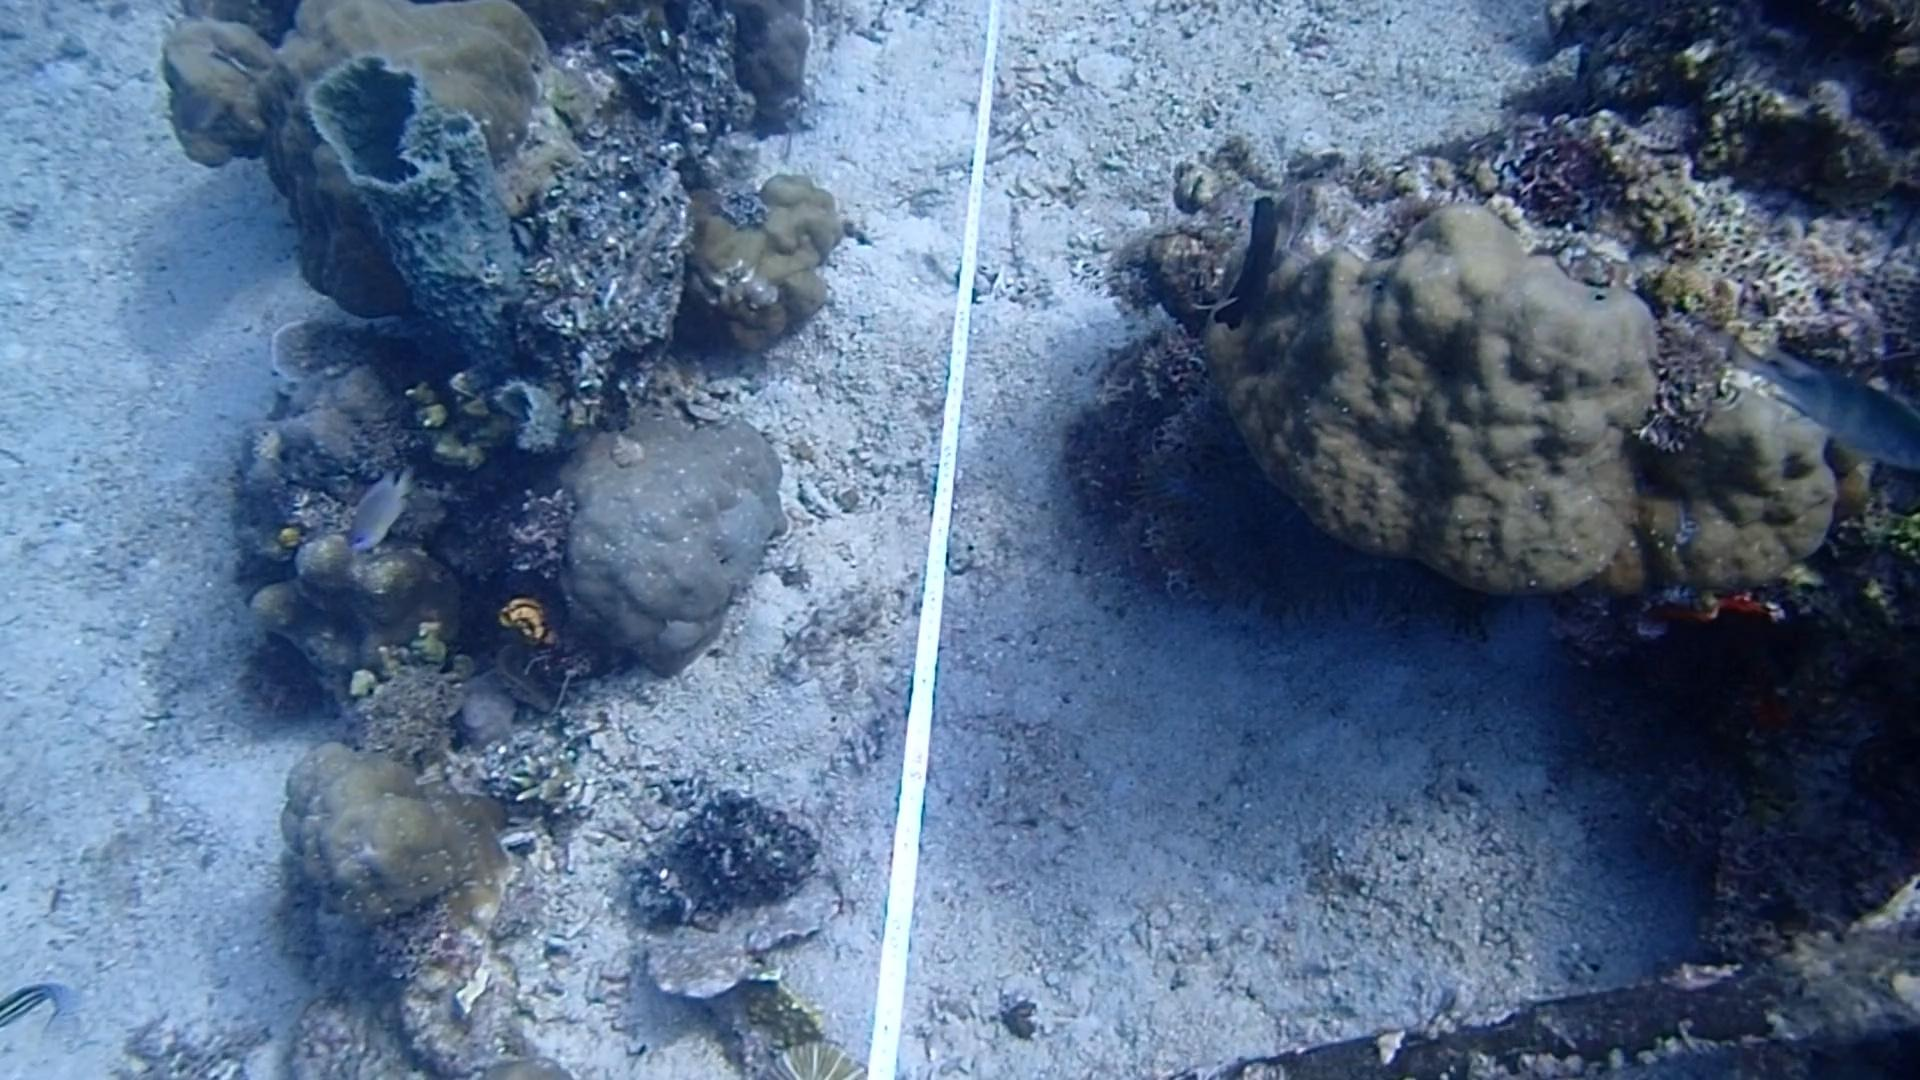Blue Fish: (1758, 320, 1920, 495)
Blue Nose Fish: (339, 469, 423, 563)
Dark Fish: (1200, 186, 1300, 338)
Striped Fish: (0, 968, 78, 1047)
